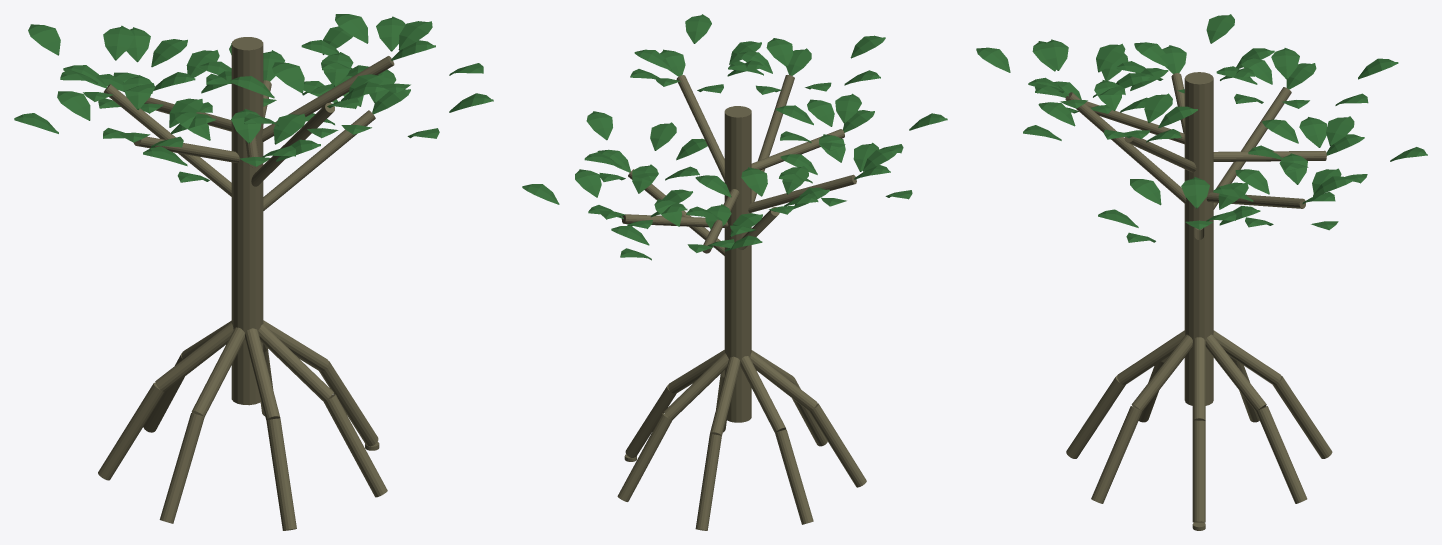
Rendered from source-edit.glb.
The picture shows the model from 3 angles, left to right: view 1: azimuth 30°, elevation 25°; view 2: azimuth 150°, elevation 25°; view 3: azimuth 270°, elevation 25°; orthographic projection. The views are drawn at different scales.
Parts seen in each view (by area): view 1: MANGROVE_Trunk, PROP_RootLower.005, PROP_RootLower.004, PROP_RootLower.006, PROP_RootLower.003, MANGROVE_Branch.001, MANGROVE_Branch, PROP_RootUpper.006, PROP_RootUpper.004, PROP_RootUpper.005, PROP_RootUpper.003, PROP_RootLower (+17 smaller); view 2: MANGROVE_Trunk, PROP_RootLower.002, PROP_RootLower.003, PROP_RootLower.001, PROP_RootLower.004, MANGROVE_Branch.005, PROP_RootUpper.001, PROP_RootUpper.003, PROP_RootUpper.002, PROP_RootUpper.004, PROP_RootLower, MANGROVE_Branch.004 (+15 smaller); view 3: MANGROVE_Trunk, PROP_RootLower, MANGROVE_Branch.002, PROP_RootLower.001, PROP_RootLower.006, PROP_RootLower.002, PROP_RootLower.005, PROP_RootUpper.001, PROP_RootUpper.006, PROP_RootUpper, MANGROVE_Branch.001, PROP_RootUpper.002 (+13 smaller).
Part boxes in pixels (x1,y1,x2,y2): MANGROVE_Trunk: [231, 37, 263, 405]; PROP_RootLower.005: [266, 418, 296, 530]; PROP_RootLower.004: [159, 413, 204, 523]; PROP_RootLower.006: [324, 394, 387, 497]; PROP_RootLower.003: [98, 382, 164, 480]; MANGROVE_Branch.001: [103, 84, 231, 196]; MANGROVE_Branch: [263, 110, 375, 210]; PROP_RootUpper.006: [258, 324, 333, 401]; PROP_RootUpper.004: [191, 327, 244, 416]; PROP_RootUpper.005: [245, 328, 280, 420]; PROP_RootUpper.003: [155, 322, 233, 391]; PROP_RootLower: [319, 361, 378, 446]; MANGROVE_Trunk: [724, 106, 751, 422]; PROP_RootLower.002: [695, 434, 721, 530]; PROP_RootLower.003: [775, 429, 813, 524]; PROP_RootLower.001: [617, 413, 672, 501]; PROP_RootLower.004: [809, 403, 866, 487]; MANGROVE_Branch.005: [676, 75, 724, 180]; PROP_RootUpper.001: [664, 353, 728, 419]; PROP_RootUpper.003: [740, 356, 785, 432]; PROP_RootUpper.002: [710, 356, 740, 435]; PROP_RootUpper.004: [750, 351, 817, 411]; PROP_RootLower: [625, 385, 676, 457]; MANGROVE_Branch.004: [748, 174, 856, 212]; MANGROVE_Trunk: [1184, 72, 1213, 405]; PROP_RootLower: [1192, 420, 1205, 522]; MANGROVE_Branch.002: [1065, 92, 1186, 203]; PROP_RootLower.001: [1256, 406, 1307, 503]; PROP_RootLower.006: [1091, 406, 1142, 503]; PROP_RootLower.002: [1273, 376, 1332, 458]; PROP_RootLower.005: [1066, 376, 1125, 458]; PROP_RootUpper.001: [1205, 334, 1266, 411]; PROP_RootUpper.006: [1131, 334, 1192, 411]; PROP_RootUpper: [1192, 337, 1205, 420]; MANGROVE_Branch.001: [1213, 87, 1291, 209]; PROP_RootUpper.002: [1213, 330, 1281, 384].
Bounding box in the file's own units: 3.06 × 3.07 × 3.11.
